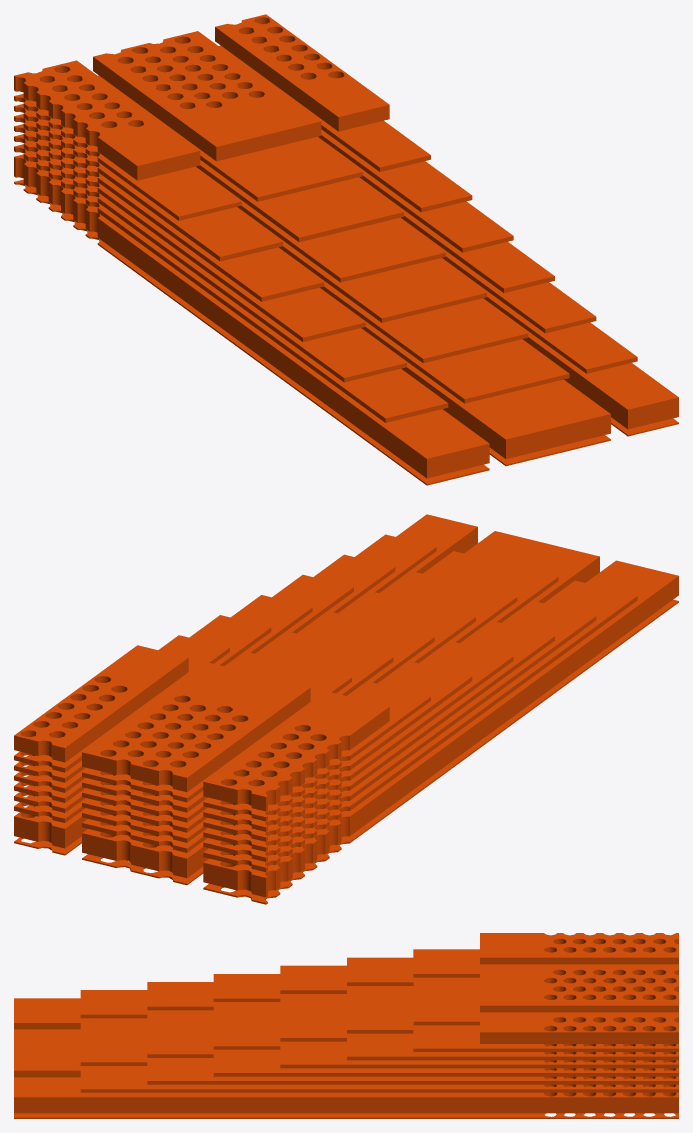
The model's file is OxideSteps.fbx.
The picture shows the model from 3 angles, top to bottom: view 1: azimuth 30°, elevation 25°; view 2: azimuth 150°, elevation 25°; view 3: azimuth 270°, elevation 25°; orthographic projection. The views are drawn at different scales.
Parts seen in each view (by area): view 1: OxideSteps; view 2: OxideSteps; view 3: OxideSteps.
Boxes of the visible parts, x1,y1,x2,y2 form: OxideSteps: (14, 14, 678, 485); OxideSteps: (14, 514, 678, 904); OxideSteps: (14, 933, 678, 1118).
Size of the model in its own units: 4.52 by 1.84 by 12.81.
